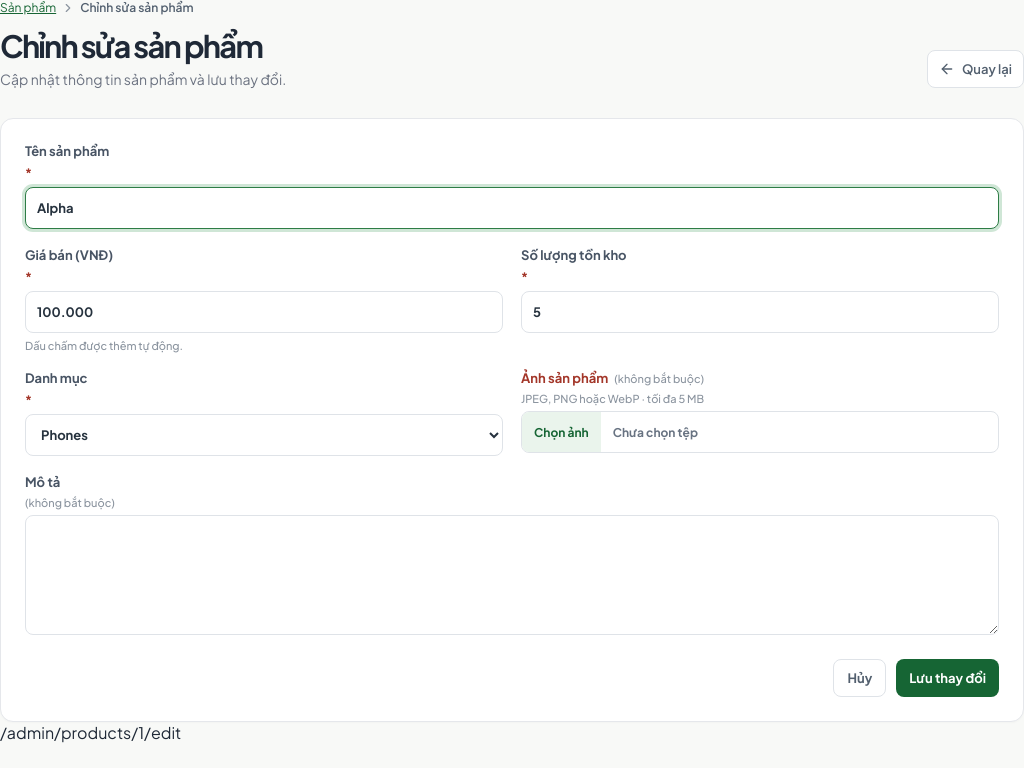
Scenario: ProductFormPage › edit: loads the product from the server, saves with PUT and updates the detail cache
Type " 2" into the field labelled "Tên sản phẩm *" at (512, 208), box [25,187,999,229]
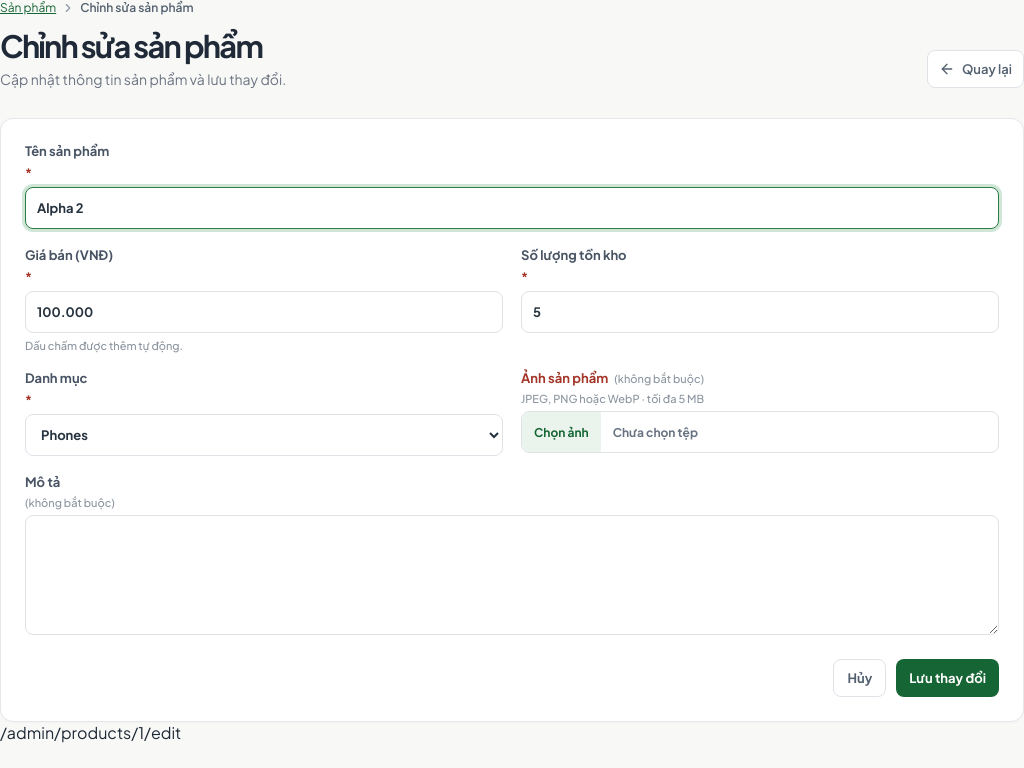
Click the button "Lưu thay đổi" at (948, 678), box [896,659,999,697]
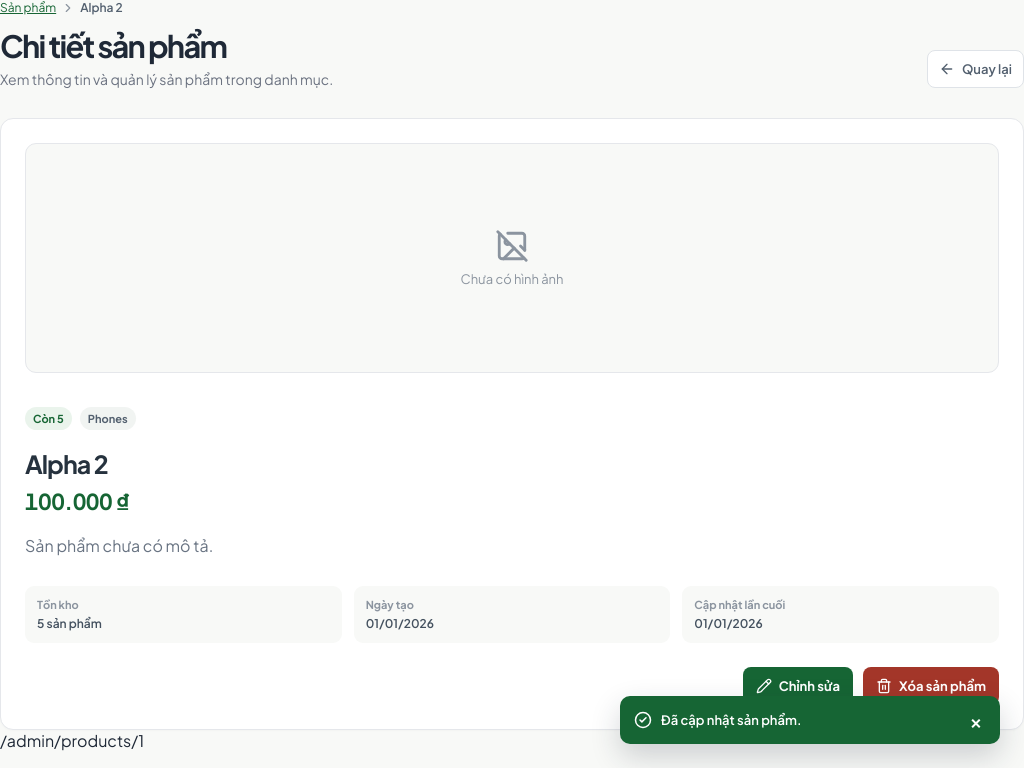
Expected: the text with test id "location" reads "/admin/products/1", [0,730,144,751]
